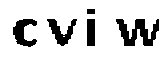c: (7, 18, 39, 51)
i: (85, 5, 99, 54)
v: (46, 18, 79, 48)
w: (112, 16, 160, 51)
